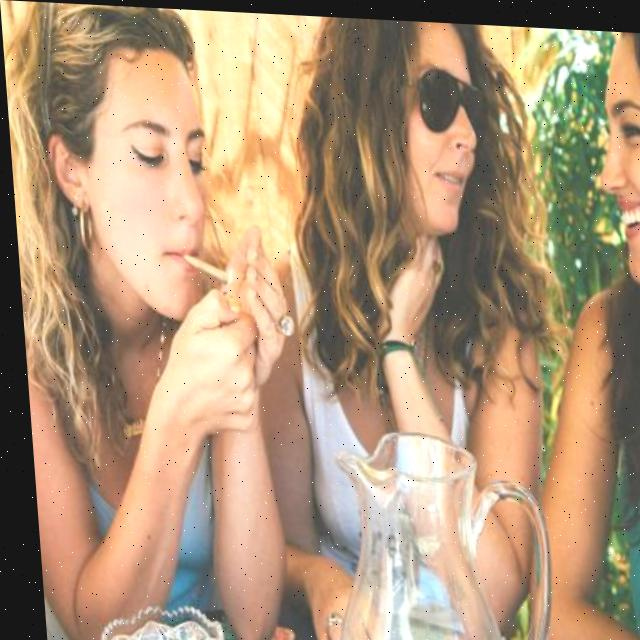cigarette: (179, 250, 228, 284)
